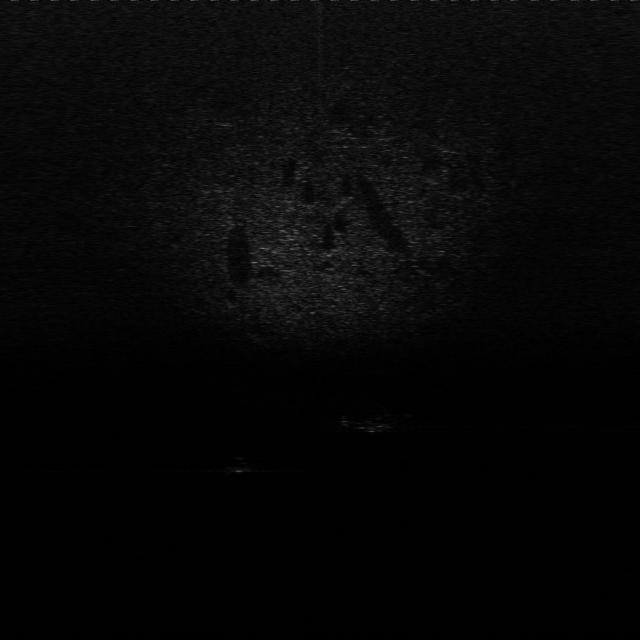ball: (222, 452, 257, 476)
human body: (336, 410, 413, 435)
